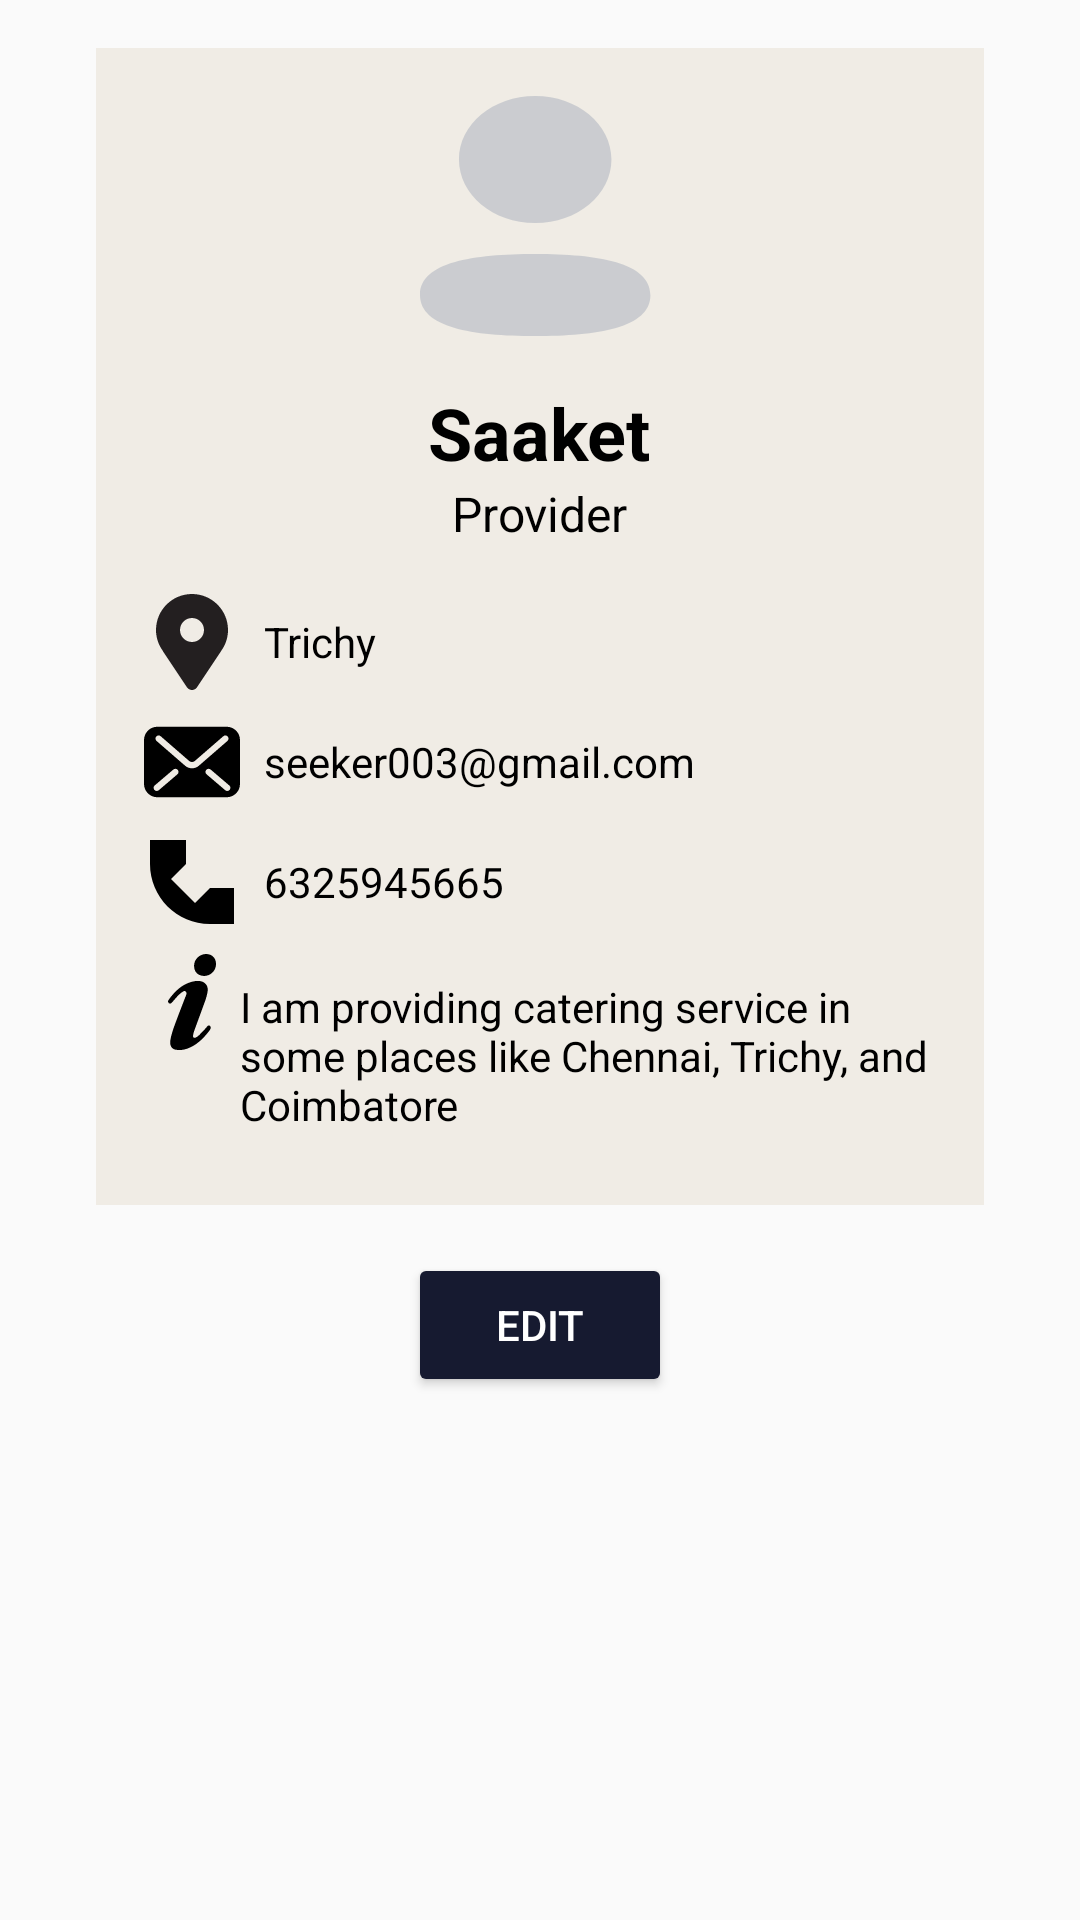

Icon bounding boxes for this 1080×1920 phone screenshot, format (x1, y1, x2, y2):
call: (150, 840, 234, 924)
email: (144, 726, 240, 798)
info: (168, 954, 216, 1050)
location: (156, 594, 228, 690)
profile: (420, 96, 650, 336)
